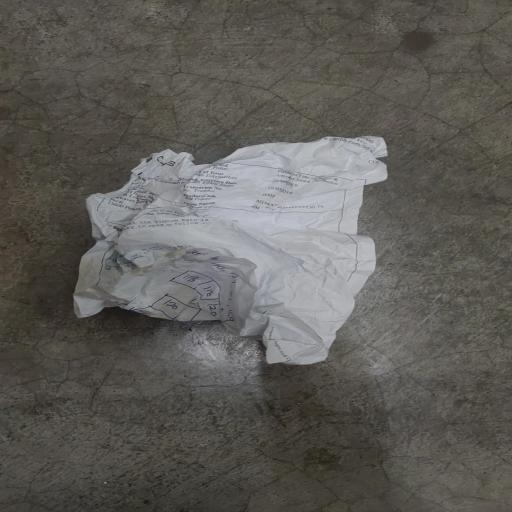paper: (77, 134, 392, 365)
